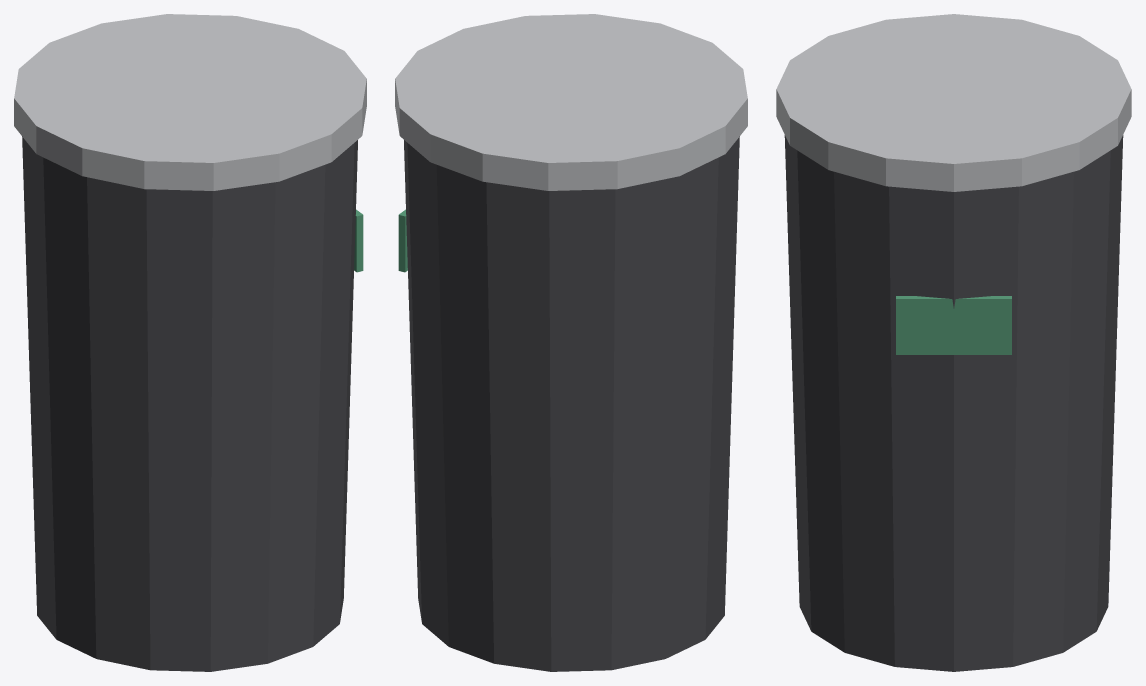
File: SM_Prop_TrashBin.glb
3 views of the same model, side by side, from view 1: azimuth 30°, elevation 25°; view 2: azimuth 150°, elevation 25°; view 3: azimuth 270°, elevation 25° (orthographic).
Parts seen in each view (by area): view 1: SM_Prop_TrashBin; view 2: SM_Prop_TrashBin; view 3: SM_Prop_TrashBin.
Part boxes in pixels (left/top/right/bottom): SM_Prop_TrashBin: left=14, top=14, right=366, bottom=671; SM_Prop_TrashBin: left=395, top=14, right=747, bottom=671; SM_Prop_TrashBin: left=776, top=14, right=1131, bottom=671.
Bounding box in the file's own units: 0.46 × 0.74 × 0.46.
